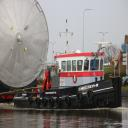tugboat: (14, 41, 124, 114)
